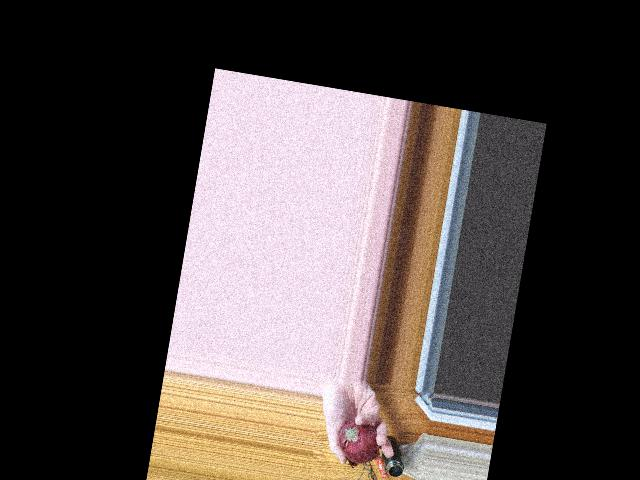onion: (334, 413, 383, 466)
